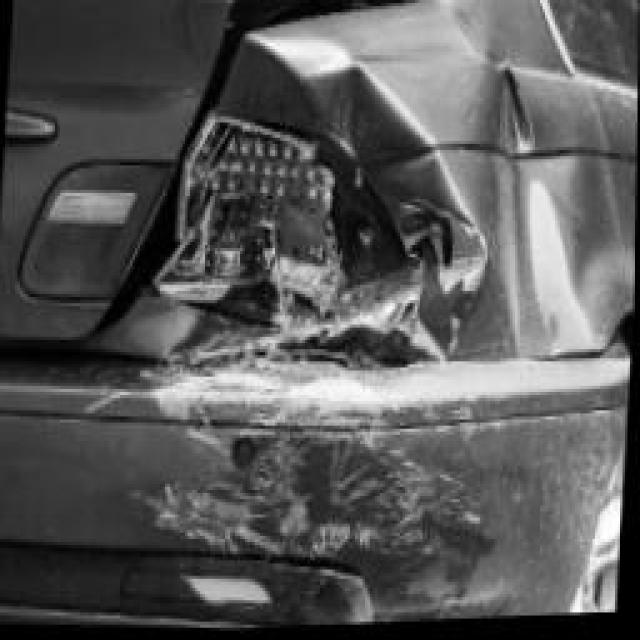Bumper: (88, 325, 562, 635)
Fender: (325, 40, 621, 311)
Light: (160, 138, 420, 331)
